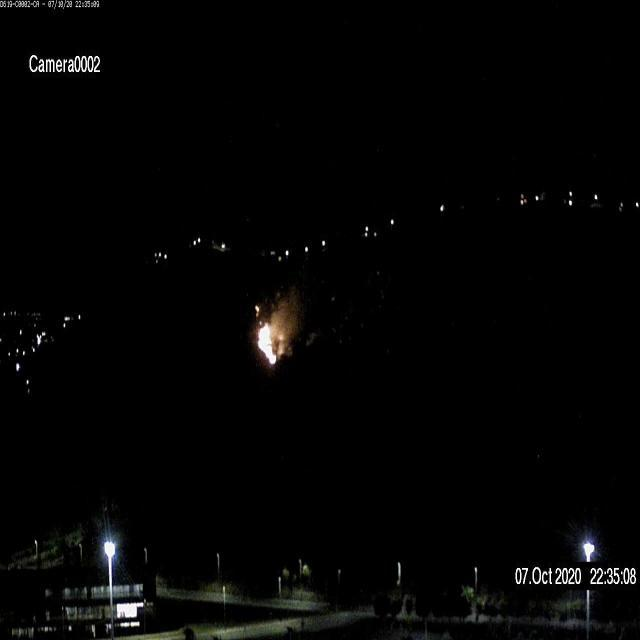Fire: (256, 316, 278, 366)
Smoke: (270, 287, 302, 353)
